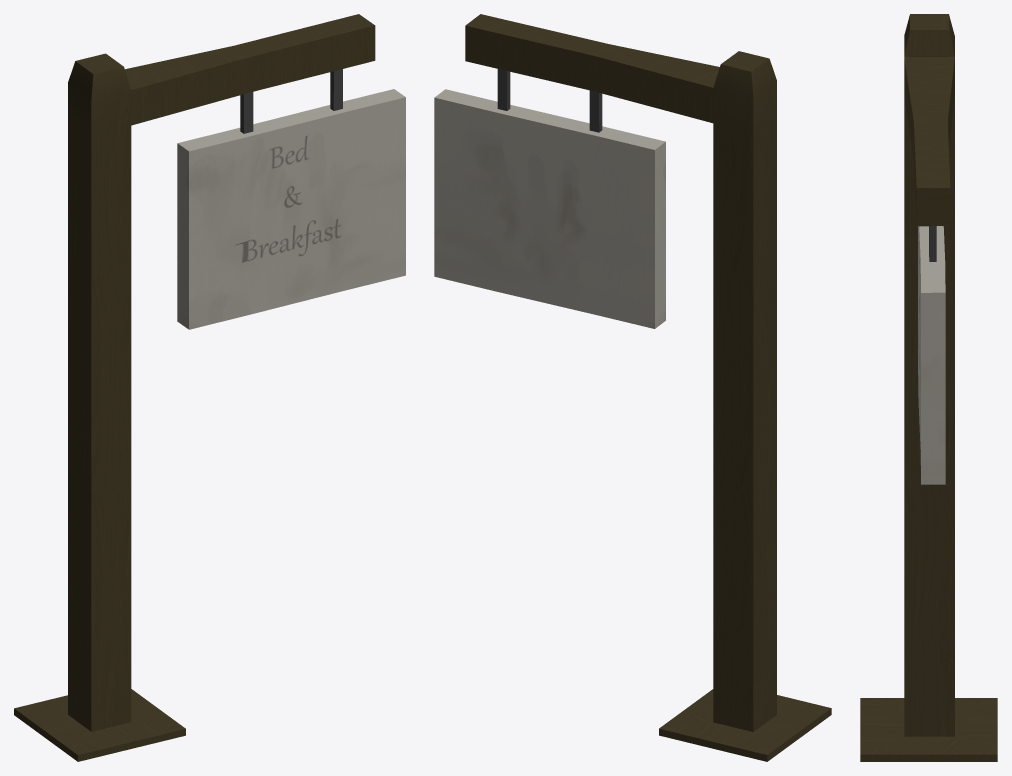
File: house_sign.fbx
3 renders of one model, left to right at view 1: azimuth 30°, elevation 25°; view 2: azimuth 150°, elevation 25°; view 3: azimuth 270°, elevation 25°, orthographic. The views are drawn at different scales.
Visible parts, largest first — view 1: light_post1; view 2: light_post1; view 3: light_post1.
Boxes of the visible parts, bbox=[...] form: light_post1: bbox=[14, 14, 405, 761]; light_post1: bbox=[434, 14, 831, 761]; light_post1: bbox=[860, 14, 997, 761].
Bounding box in the file's own units: 3.05 × 5.41 × 0.9482.
